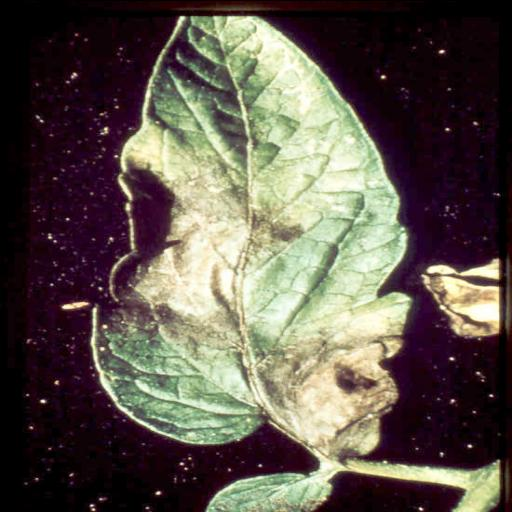Late Blight: (90, 12, 414, 458)
